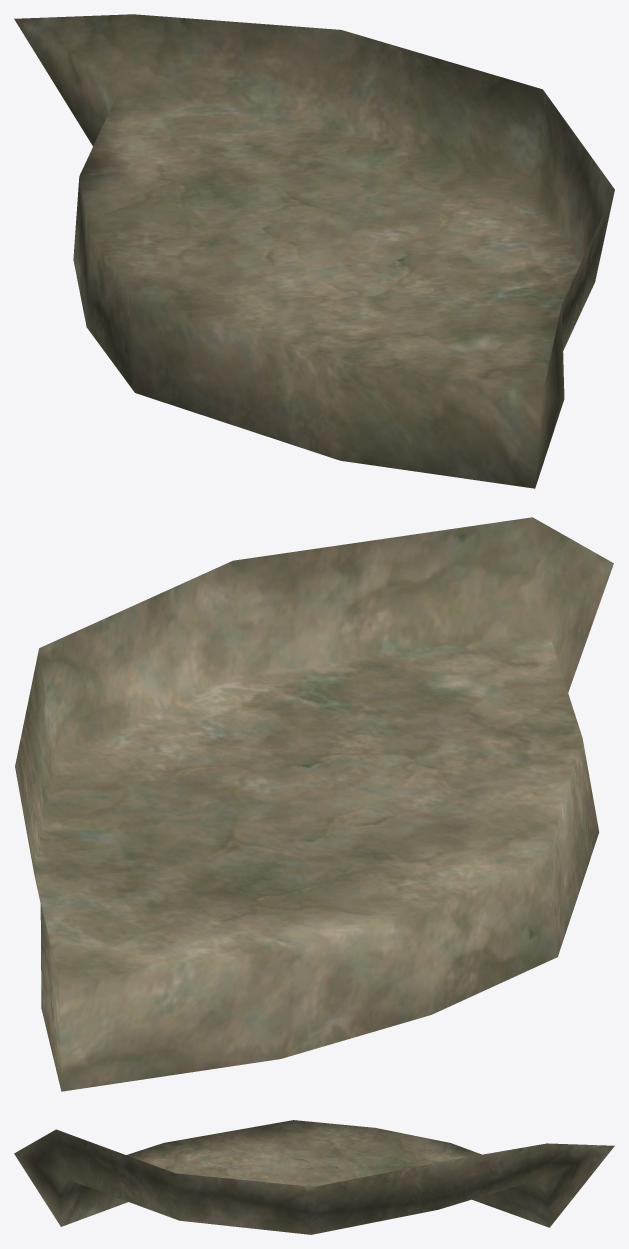
File: EKH_CAVERNS_PS_CA_PLATFORM_9430.fbx
3 views of the same model, one above another, from view 1: azimuth 30°, elevation 25°; view 2: azimuth 150°, elevation 25°; view 3: azimuth 270°, elevation 25° (orthographic). The views are drawn at different scales.
Parts seen in each view (by area): view 1: EKH_CAVERNS_PS_CA_PLATFORM_9430; view 2: EKH_CAVERNS_PS_CA_PLATFORM_9430; view 3: EKH_CAVERNS_PS_CA_PLATFORM_9430.
Part boxes in pixels (box(x1,y1,x2,y2)): EKH_CAVERNS_PS_CA_PLATFORM_9430: box(14, 14, 614, 488); EKH_CAVERNS_PS_CA_PLATFORM_9430: box(15, 517, 613, 1091); EKH_CAVERNS_PS_CA_PLATFORM_9430: box(14, 1120, 614, 1234).
Size of the model in its own units: 24802 by 10000 by 52416.
Materials: 1 (1 with a texture image).
